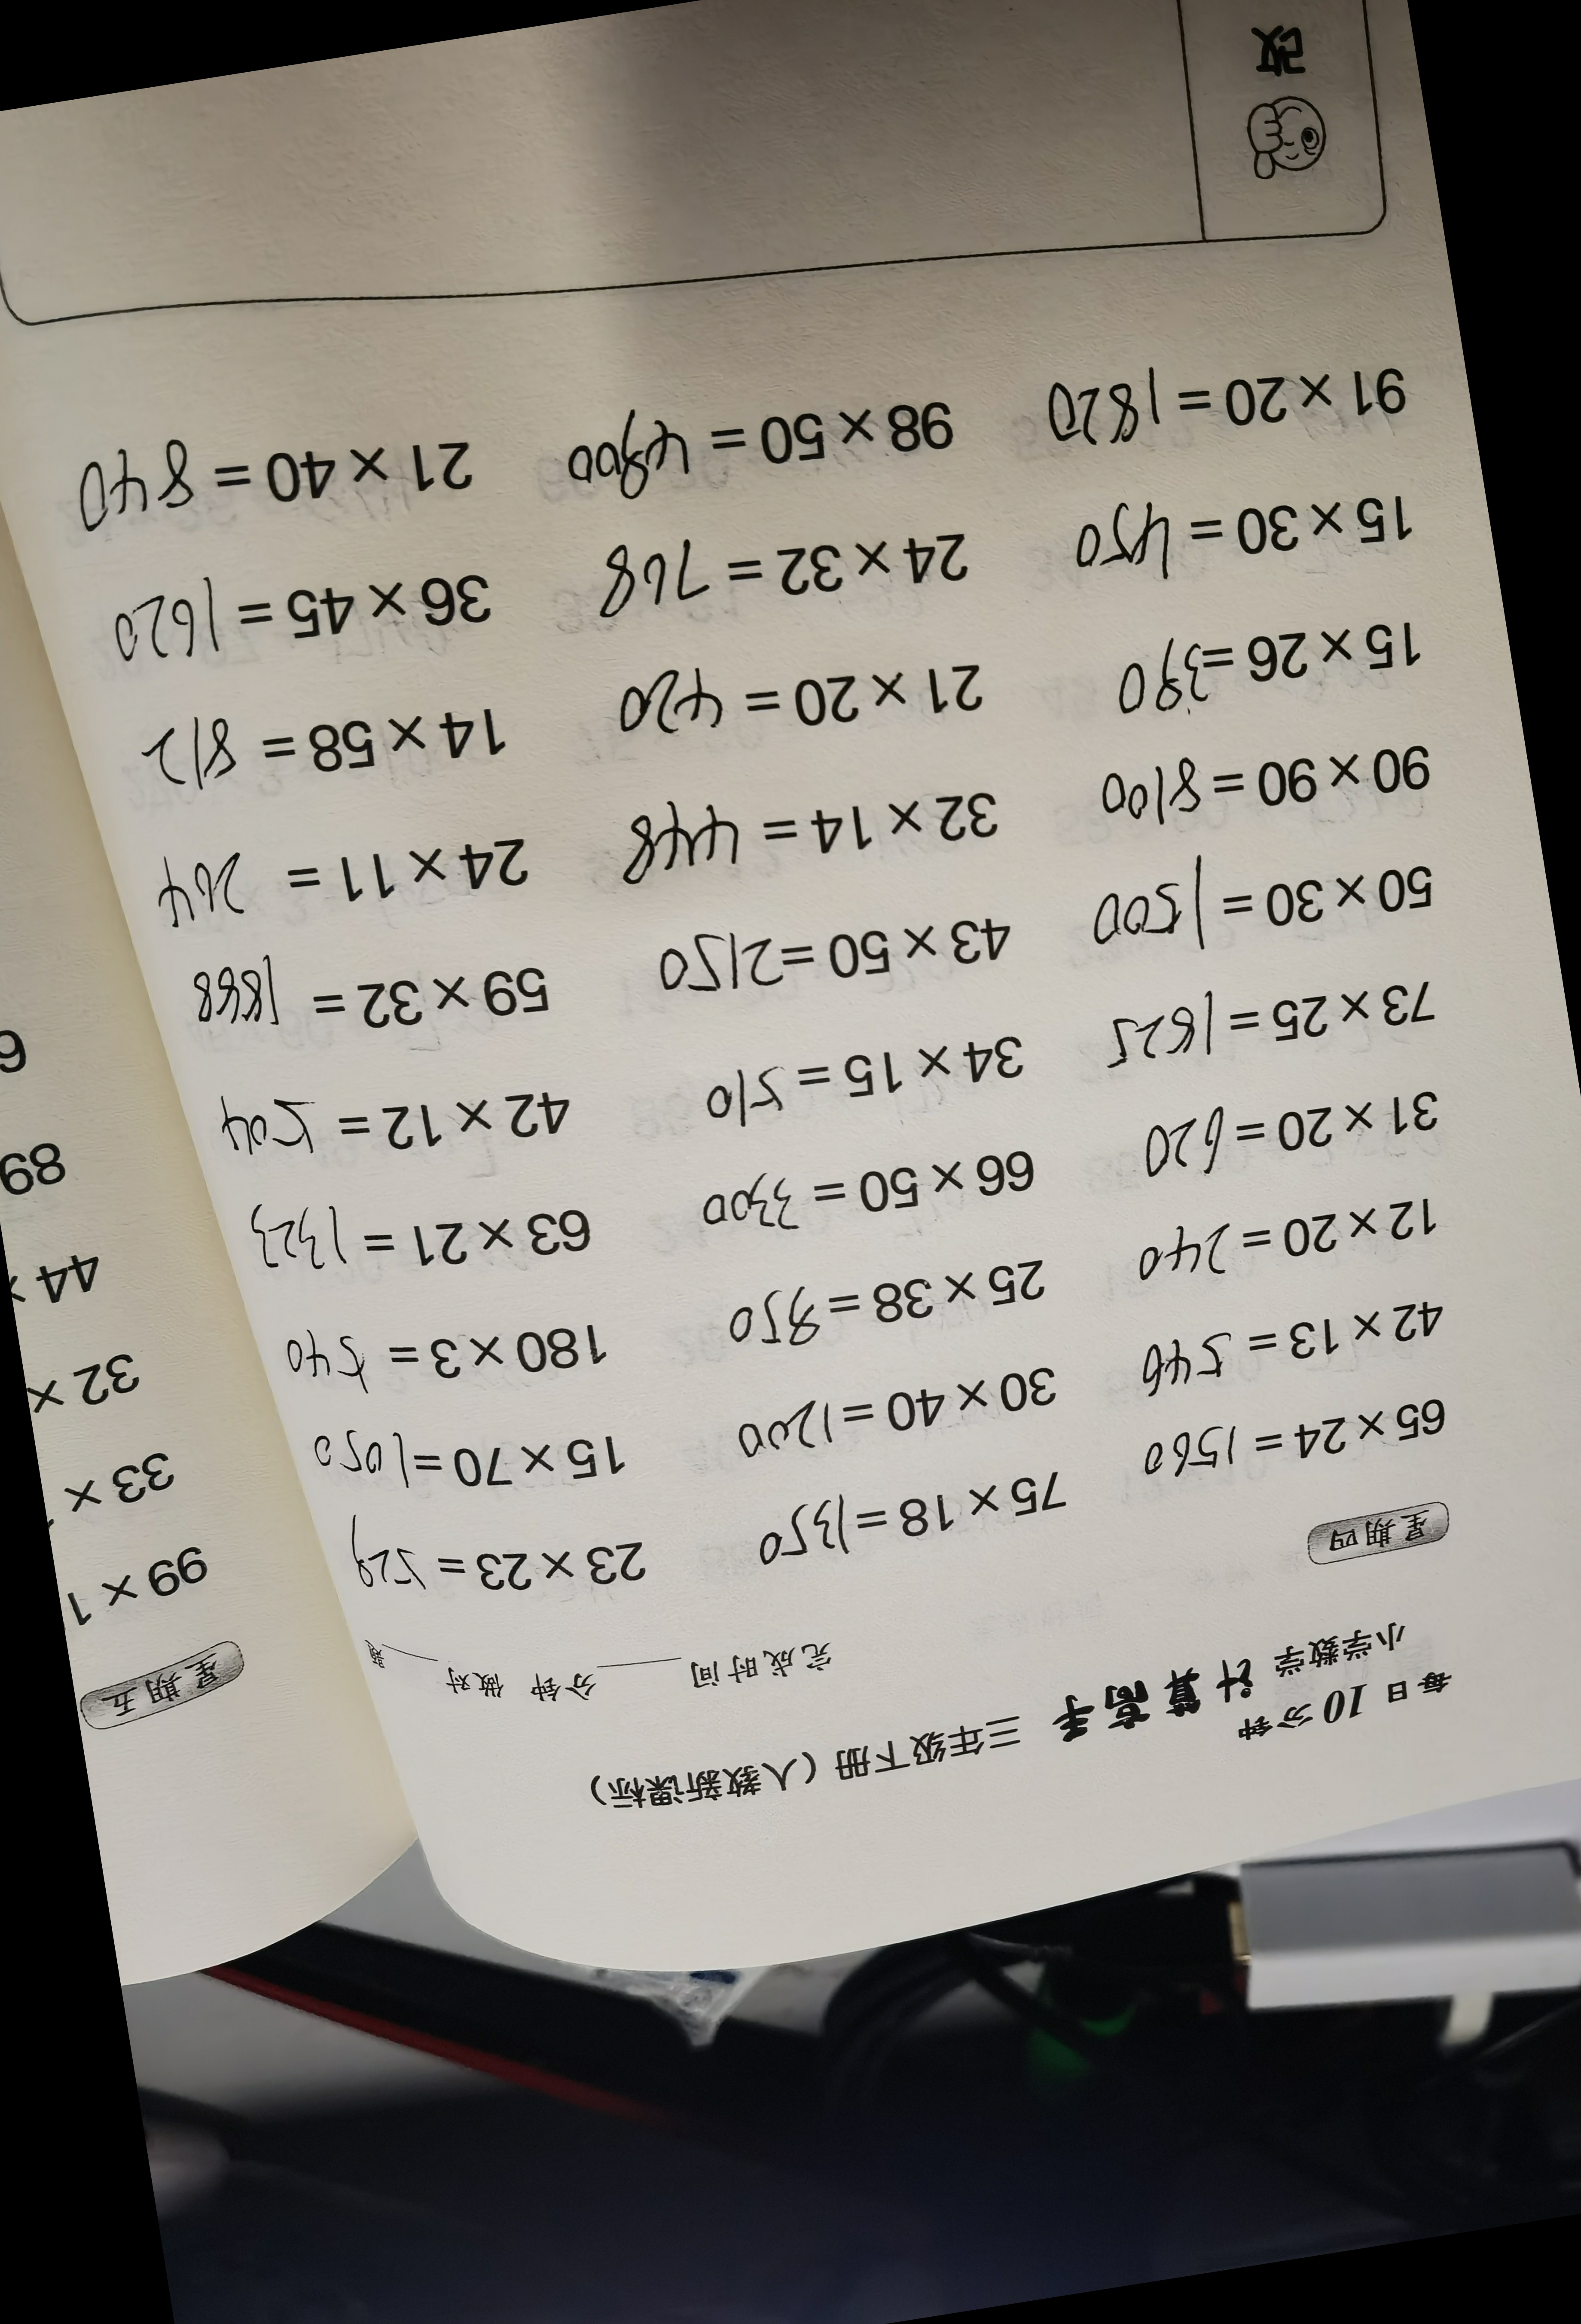equation: (1032, 332, 1436, 485), (120, 686, 526, 838), (150, 930, 575, 1073), (65, 401, 464, 552), (106, 561, 491, 709), (554, 514, 978, 646), (598, 771, 1000, 909), (545, 390, 963, 522), (175, 1053, 593, 1175), (138, 815, 528, 944), (231, 1292, 600, 1424), (1094, 709, 1452, 845), (332, 1502, 667, 1643), (609, 641, 992, 762), (228, 1172, 598, 1297), (649, 896, 1018, 1020), (688, 1145, 1071, 1256), (303, 1399, 633, 1528), (1078, 840, 1445, 948), (1071, 475, 1408, 591), (720, 1364, 1073, 1472), (1083, 965, 1431, 1071), (1090, 614, 1422, 723), (1117, 1068, 1445, 1172), (1129, 1292, 1461, 1394), (701, 1255, 1055, 1350), (748, 1463, 1098, 1558), (1138, 1391, 1463, 1491), (693, 1036, 1027, 1129), (1142, 1195, 1447, 1292)
